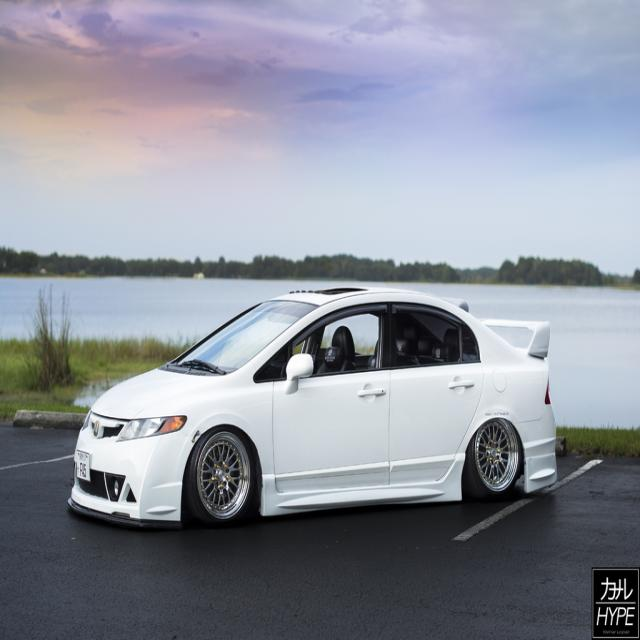car: (61, 280, 563, 517)
